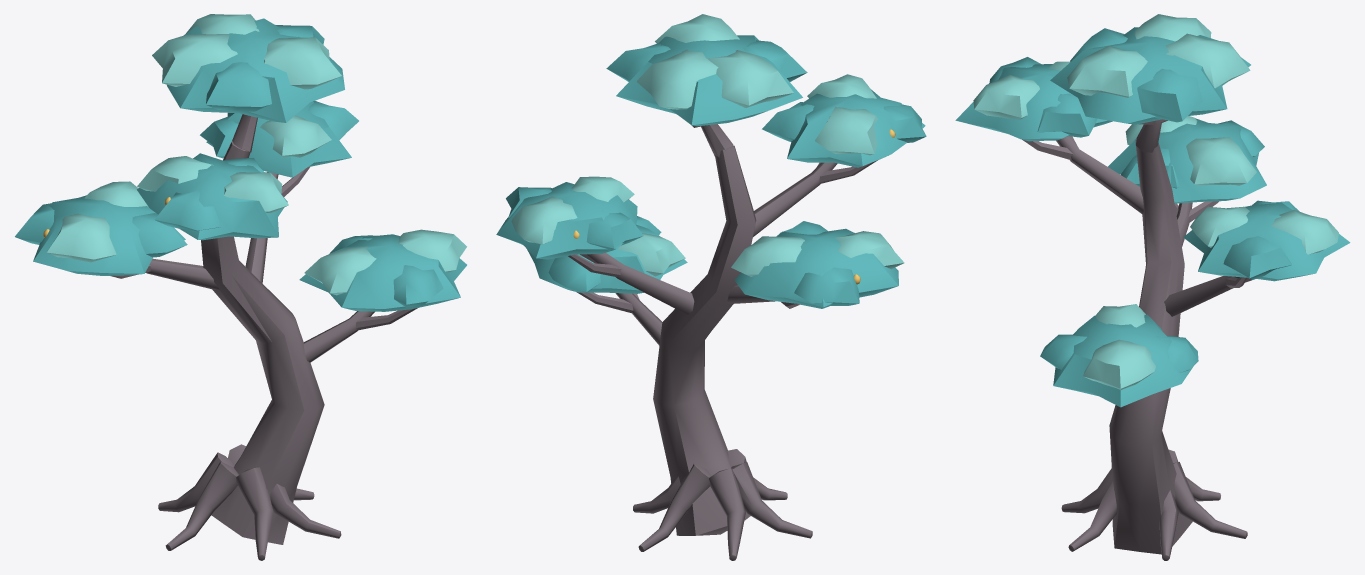
The model's file is akasha_tree_bonsai.glb.
3 renders of one model, left to right at view 1: azimuth 30°, elevation 25°; view 2: azimuth 150°, elevation 25°; view 3: azimuth 270°, elevation 25°, orthographic.
Parts seen in each view (by area): view 1: akasha_tree_bonsai; view 2: akasha_tree_bonsai; view 3: akasha_tree_bonsai.
Boxes of the visible parts, x1,y1,x2,y2 form: akasha_tree_bonsai: (15,14,466,560); akasha_tree_bonsai: (496,14,926,560); akasha_tree_bonsai: (955,14,1350,560).
Bounding box in the file's own units: 6.8 × 8.01 × 5.73.
